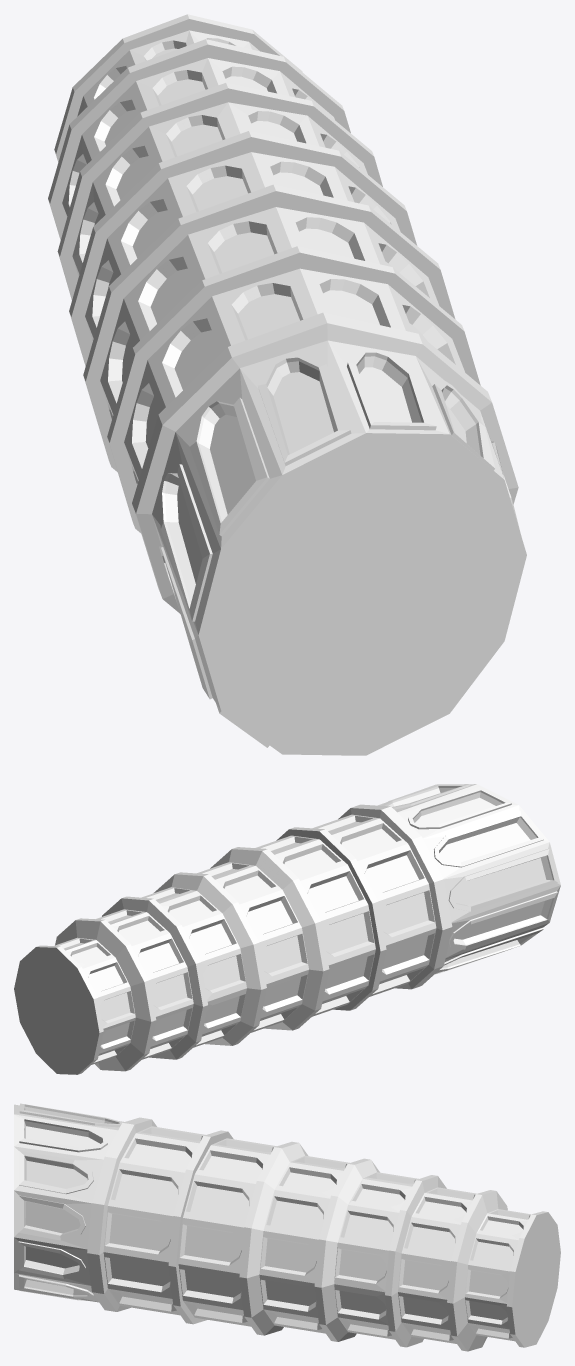
The model's file is venice_building_23.fbx.
3 renders of one model, top to bottom at view 1: azimuth 30°, elevation 25°; view 2: azimuth 150°, elevation 25°; view 3: azimuth 270°, elevation 25°, orthographic. The views are drawn at different scales.
Parts seen in each view (by area): view 1: Cylinder.042; view 2: Cylinder.042; view 3: Cylinder.042.
Boxes of the visible parts, left/top/right/bottom form: Cylinder.042: left=48, top=14, right=526, bottom=755; Cylinder.042: left=14, top=784, right=560, bottom=1074; Cylinder.042: left=14, top=1103, right=560, bottom=1351.
Bounding box in the file's own units: 2843 × 1586 × 4318.
